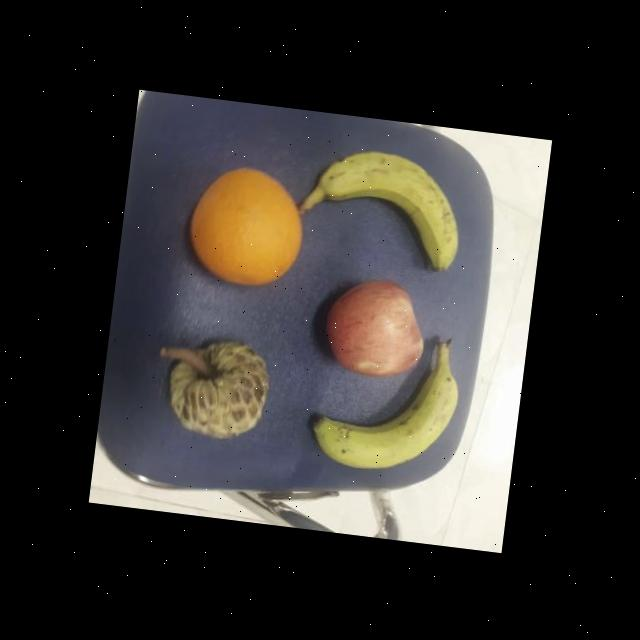Sakya fruit: (156, 329, 277, 440)
apple: (317, 268, 432, 384)
banana: (290, 139, 470, 275), (306, 356, 470, 482)
orange: (176, 156, 316, 292)
